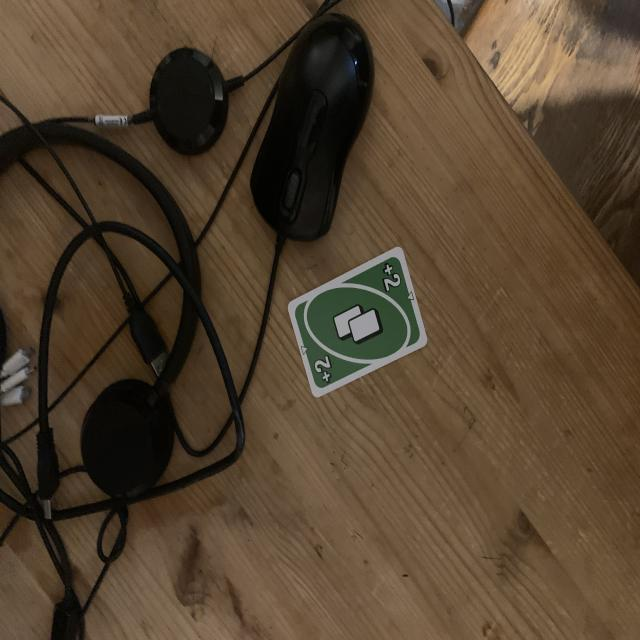lgreen-20: (372, 261, 406, 298)
